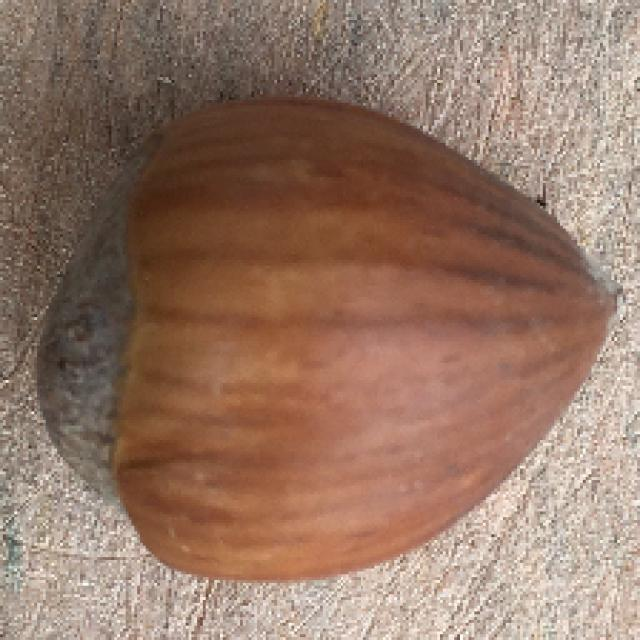qualityHazelnut: (36, 95, 606, 578)
